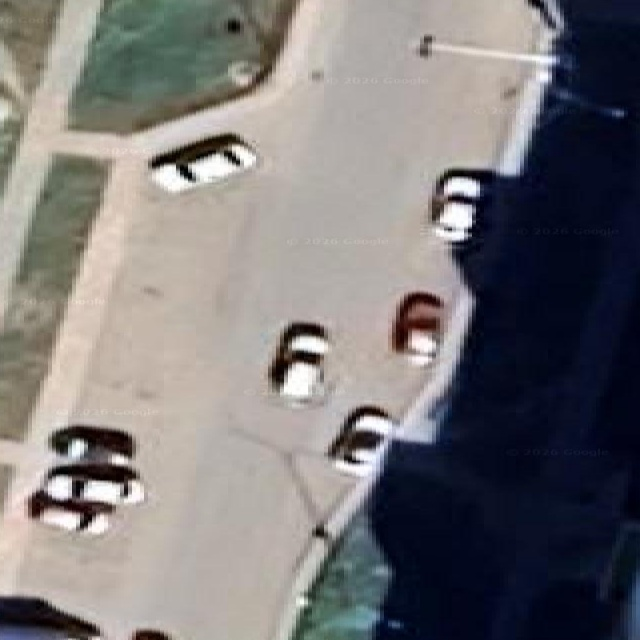car: (150, 134, 257, 192), (269, 323, 329, 405), (431, 170, 492, 244), (329, 407, 393, 477), (43, 464, 144, 505), (392, 292, 443, 366), (28, 491, 113, 535), (50, 425, 134, 464)
